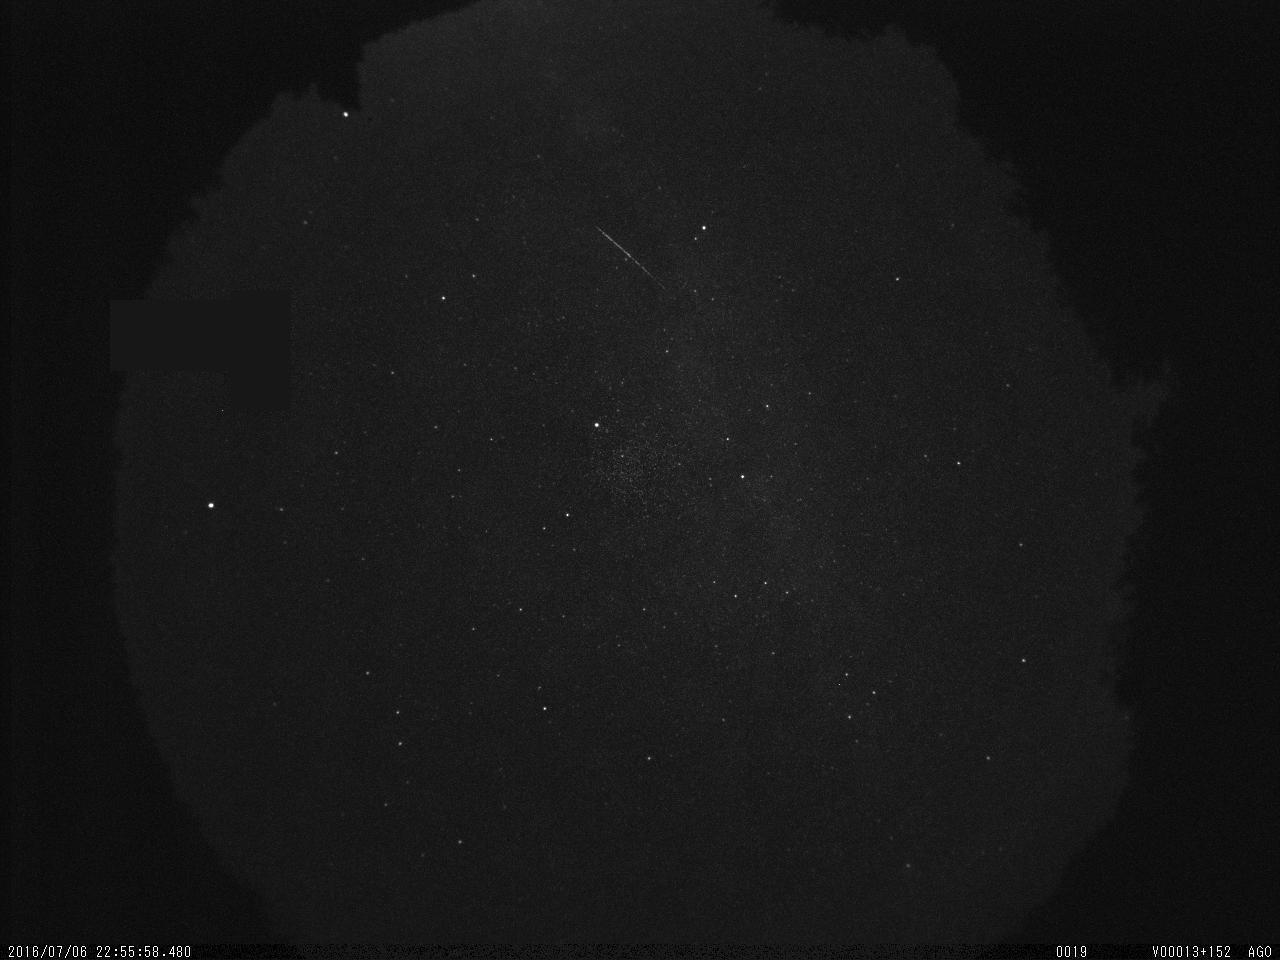Meteor: (588, 218, 662, 287)
